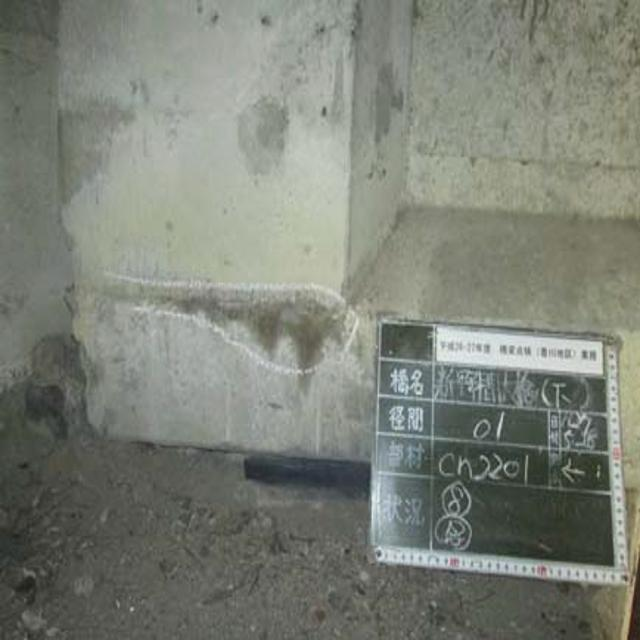leakage: (110, 280, 353, 376)
